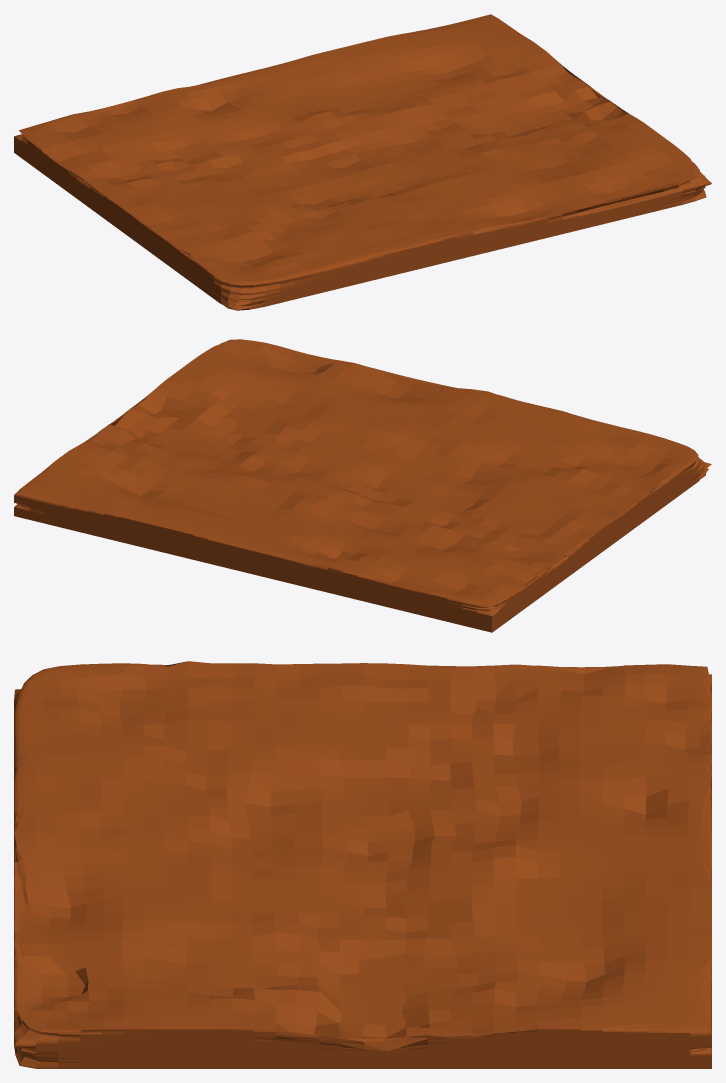
Rendered from RespawnFloor.fbx.
3 renders of one model, top to bottom at view 1: azimuth 30°, elevation 25°; view 2: azimuth 150°, elevation 25°; view 3: azimuth 270°, elevation 25°, orthographic. The views are drawn at different scales.
Visible parts, largest first — view 1: Cube.022; view 2: Cube.022; view 3: Cube.022.
Part boxes in pixels (box(x1,y1,x2,y2)): Cube.022: box(14, 14, 711, 310); Cube.022: box(14, 339, 711, 632); Cube.022: box(14, 661, 711, 1068).
Size of the model in its own units: 1008 by 50 by 800.
